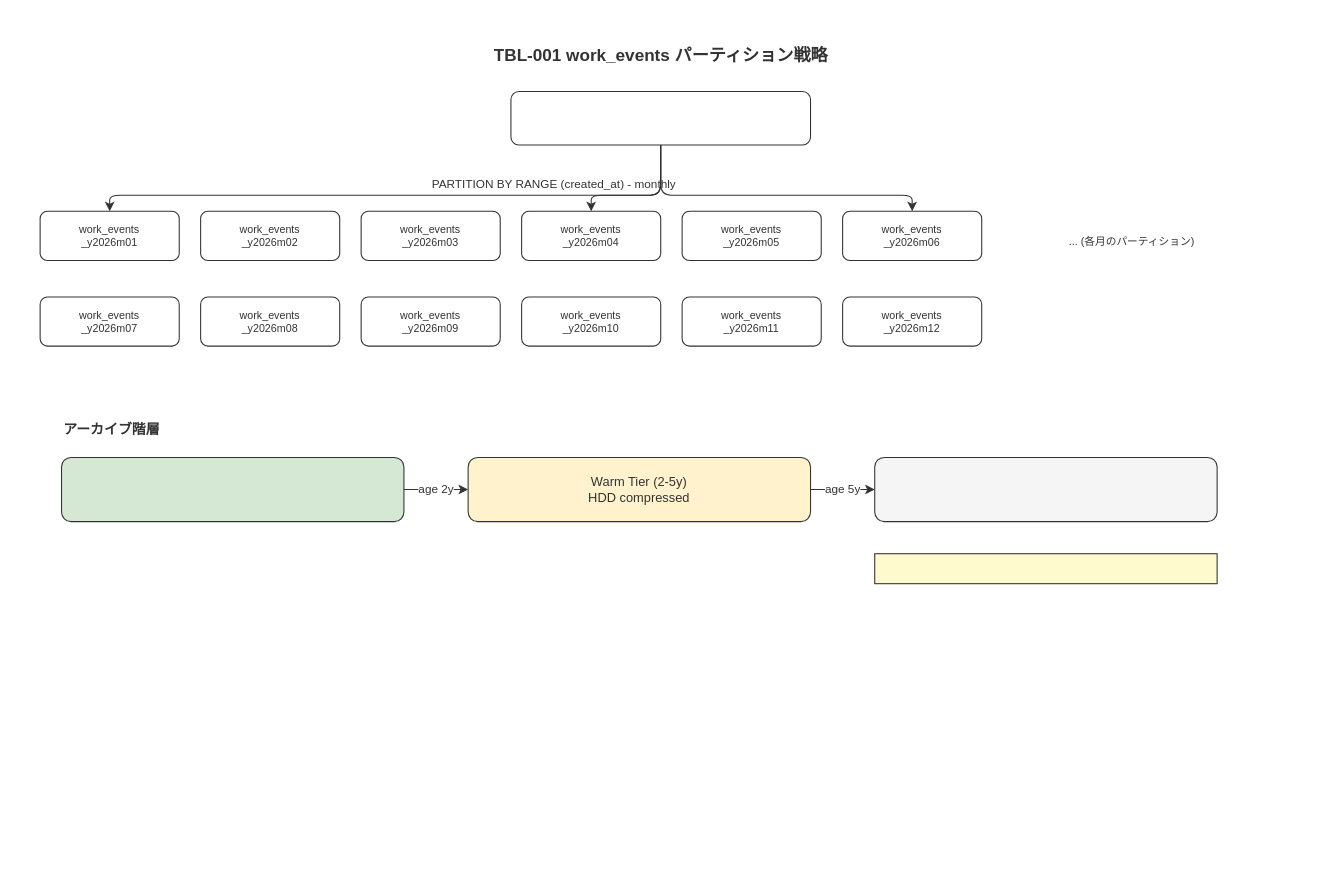
This 1320x892 diagram has some shape labels left out. The centre of each missing label's shape, as x and y in pixels:
Cold Tier (5-7y) NAS gzip: [1045,489]
Hot Tier (0-2y) SSD online: [232,489]
work_events (parent): [660,117]
保持ポリシー: 7年後に削除: [1045,568]
